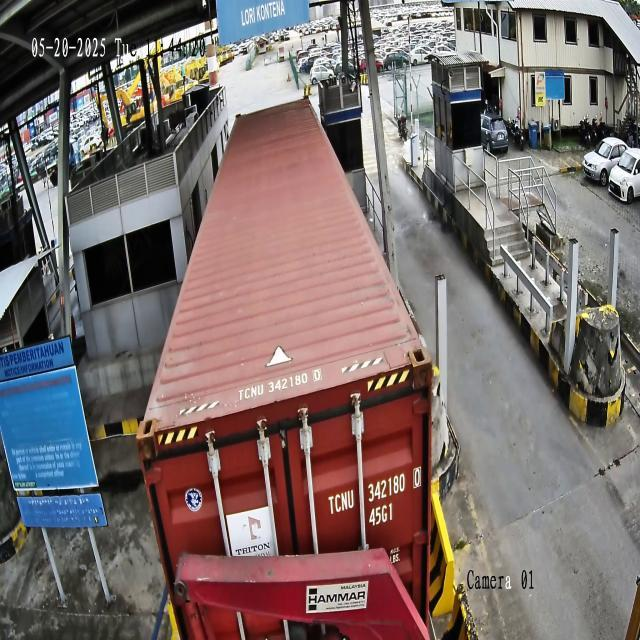ISO: (368, 501, 393, 529)
container_number: (327, 466, 422, 516)
